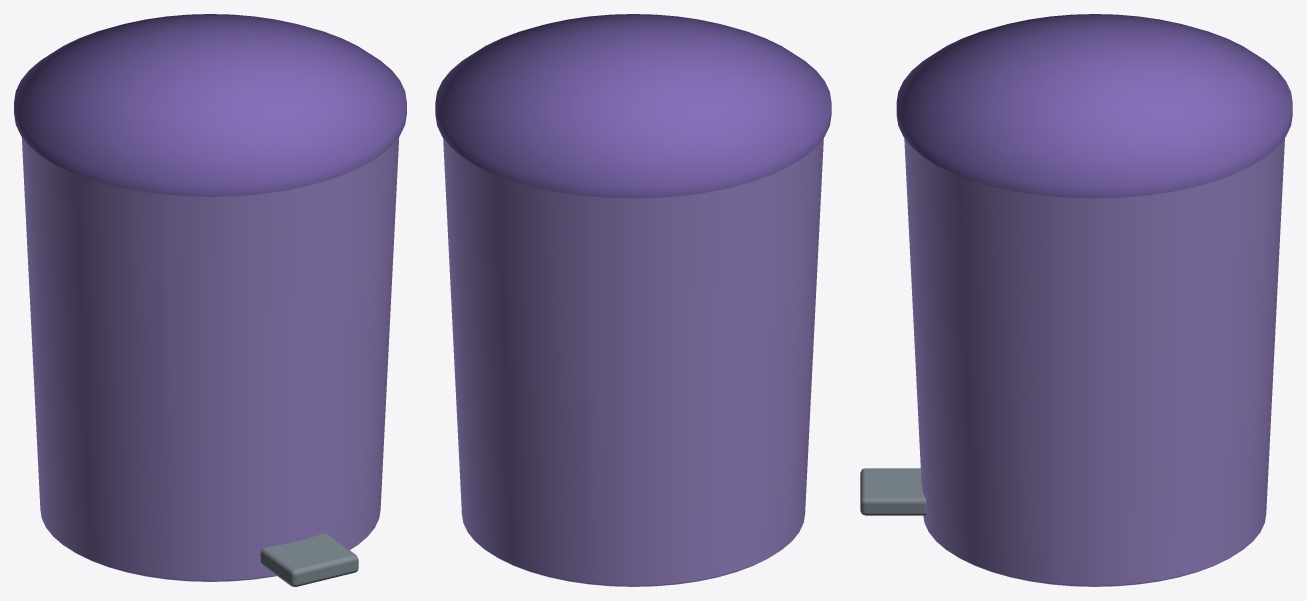
Rendered from SM_TrashBin.glb.
The picture shows the model from 3 angles, left to right: view 1: azimuth 30°, elevation 25°; view 2: azimuth 150°, elevation 25°; view 3: azimuth 270°, elevation 25°; orthographic projection.
Parts seen in each view (by area): view 1: SM_TrashBin, Lid; view 2: SM_TrashBin, Lid; view 3: SM_TrashBin, Lid.
Boxes of the visible parts, box(x1,y1,x2,y2) form: SM_TrashBin: box(21, 137, 399, 586); Lid: box(14, 14, 406, 196); SM_TrashBin: box(443, 138, 823, 586); Lid: box(435, 14, 831, 198); SM_TrashBin: box(860, 138, 1284, 586); Lid: box(896, 14, 1292, 198).
Bounding box in the file's own units: 0.6 × 0.76 × 0.655.
1 material, 1 textured.
